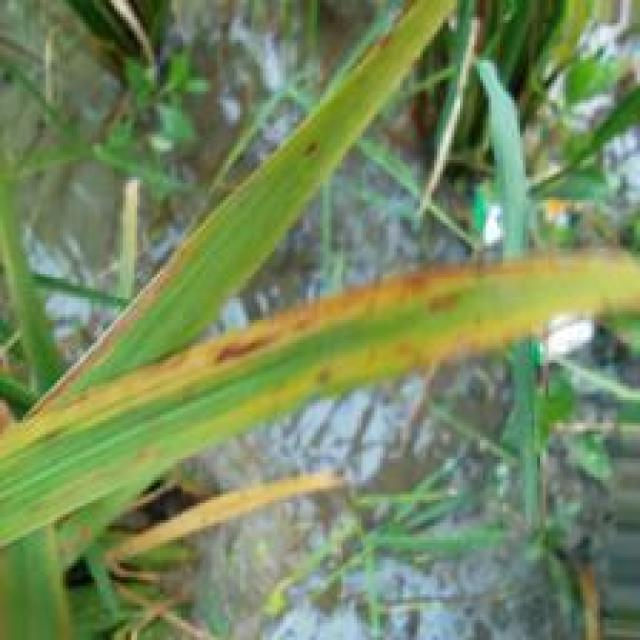Narrow_Brown_Leaf_Spot: (0, 247, 640, 460)
